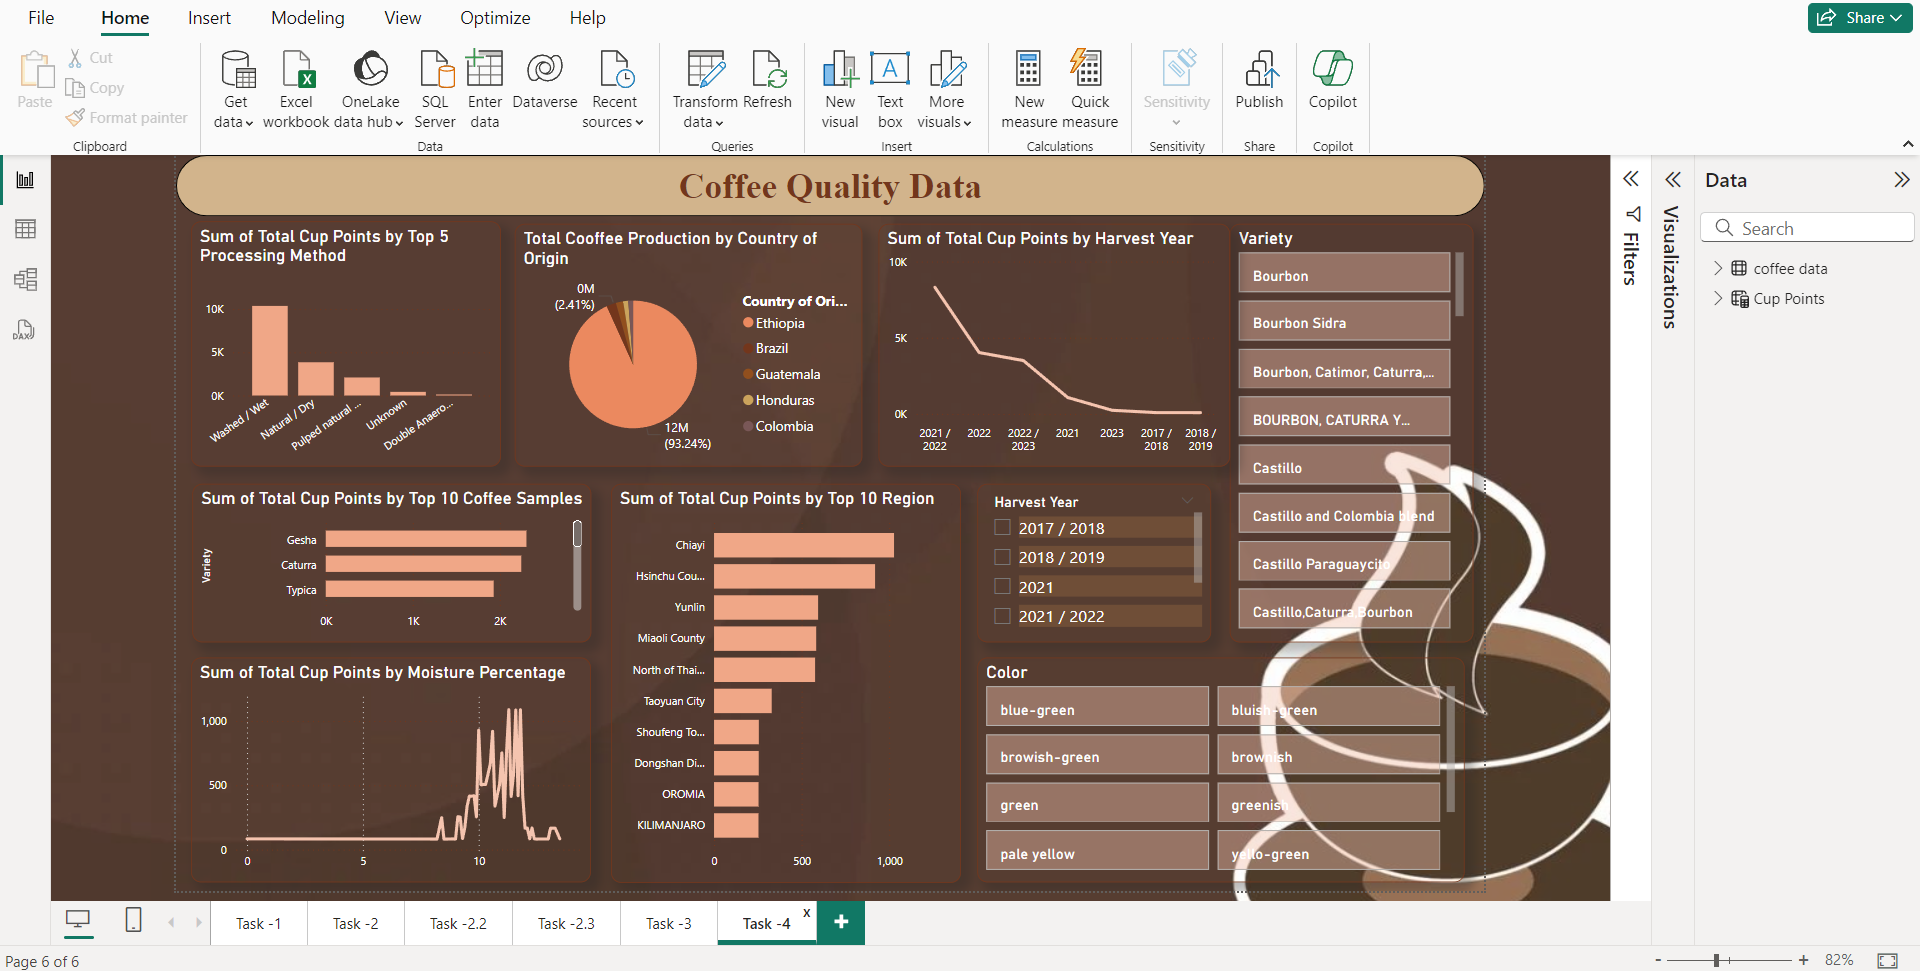

This screenshot's page, from the dashboard's own definition file:
{"tool":"powerbi","page":{"name":"Task -4","canvas":[1280,720],"ordinal":5},"visuals":[{"type":"shape","box":[0,0,1280.3,59.9],"z":0},{"type":"advancedSlicerVisual","fields":{"Values":["coffee data.Variety"]},"box":[1030.8,67.3,238.5,409.6],"z":1000},{"type":"clusteredColumnChart","title":"Sum of Total Cup Points by Top 5  Processing Method","fields":{"Category":["coffee data.Processing Method"],"Y":["Sum(coffee data.Total Cup Points)"]},"box":[14.7,64.8,303.3,239.7],"z":2000},{"type":"clusteredBarChart","title":"Sum of Total Cup Points by Top 10  Region","fields":{"Category":["coffee data.Region"],"Y":["Sum(coffee data.Total Cup Points)"]},"box":[425.5,321.6,342.4,390.1],"z":3000},{"type":"clusteredBarChart","title":"Sum of Total Cup Points by Top 10 Coffee Samples","fields":{"Category":["coffee data.Variety"],"Y":["Sum(coffee data.Total Cup Points)"]},"box":[15.9,321.6,390.1,155.3],"z":4000},{"type":"lineChart","fields":{"Category":["coffee data.Moisture Percentage"],"Y":["Sum(coffee data.Total Cup Points)"]},"box":[14.7,491.6,391.3,220.1],"z":5000},{"type":"lineChart","fields":{"Category":["coffee data.Harvest Year"],"Y":["Sum(coffee data.Total Cup Points)"]},"box":[687.2,67.3,343.6,237.2],"z":6000},{"type":"pieChart","title":"Total Cooffee Production by Country of Origin","fields":{"Y":["Sum(coffee data.Total Bag Weight(kg))"],"Category":["coffee data.Country of Origin"]},"box":[331.4,67.3,339.9,237.2],"z":7000},{"type":"slicer","fields":{"Values":["coffee data.Harvest Year"]},"box":[783.8,321.6,228.7,155.3],"z":8000},{"type":"advancedSlicerVisual","fields":{"Values":["coffee data.Color"]},"box":[783.8,491.6,476.9,220.1],"z":9000}]}

Visuals, with their boxes on the page's 1280x720 design canvas (x1, y1, x2, y2). These are canvas units, not pixel positions in the 1920x971 screenshot, which may show the page scaled, cropped or inside an application window:
shape: left=0, top=0, right=1280, bottom=60
advancedSlicerVisual - coffee data.Variety: left=1031, top=67, right=1269, bottom=477
"Sum of Total Cup Points by Top 5  Processing Method" clusteredColumnChart: left=15, top=65, right=318, bottom=304
"Sum of Total Cup Points by Top 10  Region" clusteredBarChart: left=426, top=322, right=768, bottom=712
"Sum of Total Cup Points by Top 10 Coffee Samples" clusteredBarChart: left=16, top=322, right=406, bottom=477
lineChart - coffee data.Moisture Percentage x Sum(coffee data.Total Cup Points): left=15, top=492, right=406, bottom=712
lineChart - coffee data.Harvest Year x Sum(coffee data.Total Cup Points): left=687, top=67, right=1031, bottom=304
"Total Cooffee Production by Country of Origin" pieChart: left=331, top=67, right=671, bottom=304
slicer - coffee data.Harvest Year: left=784, top=322, right=1012, bottom=477
advancedSlicerVisual - coffee data.Color: left=784, top=492, right=1261, bottom=712
